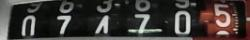digits: (8, 0, 248, 37), (198, 0, 249, 37), (127, 13, 162, 34), (173, 10, 191, 34), (214, 3, 230, 26), (20, 15, 36, 35), (56, 15, 72, 34), (94, 15, 109, 33), (58, 0, 75, 13), (96, 0, 112, 12), (134, 0, 150, 11), (27, 2, 42, 13), (174, 0, 189, 8)
